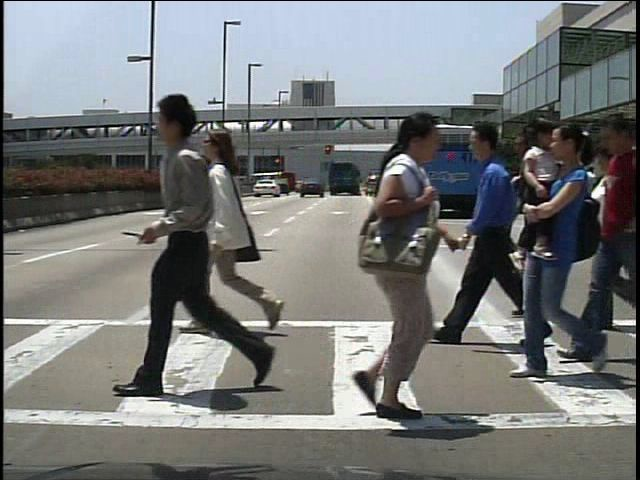person: (124, 78, 299, 421), (331, 113, 460, 424), (170, 119, 300, 342), (445, 116, 532, 344), (496, 130, 569, 322), (594, 143, 633, 347), (582, 168, 602, 218), (488, 162, 506, 215)
